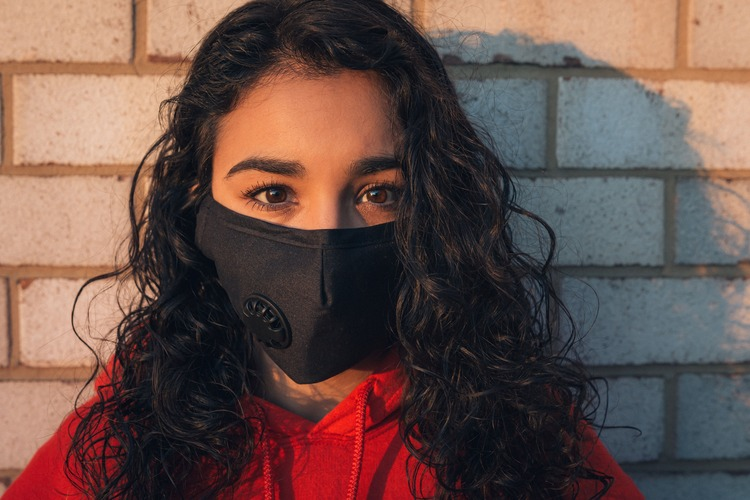with_mask: (200, 89, 416, 371)
